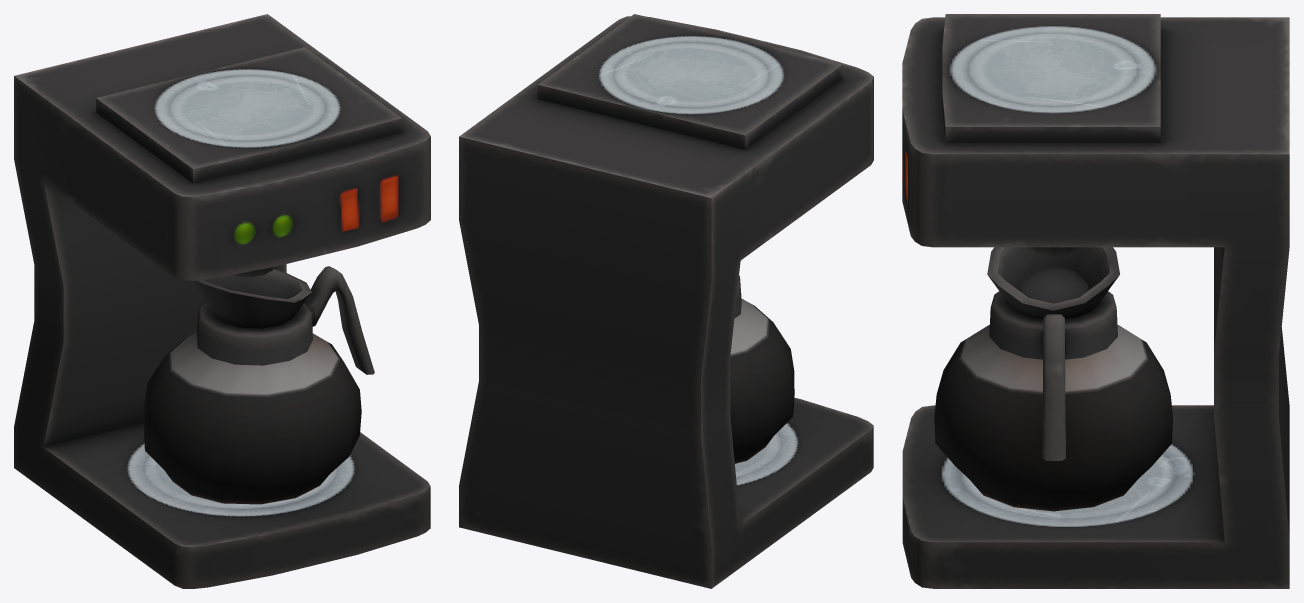
File: CafeCoffeeHeater02_1.FBX
The picture shows the model from 3 angles, left to right: view 1: azimuth 30°, elevation 25°; view 2: azimuth 150°, elevation 25°; view 3: azimuth 270°, elevation 25°; orthographic projection. The views are drawn at different scales.
Visible parts, largest first — view 1: CafeCoffeeHeater02_1; view 2: CafeCoffeeHeater02_1; view 3: CafeCoffeeHeater02_1.
Boxes of the visible parts, <box> form: CafeCoffeeHeater02_1: <box>14,14,430,588</box>; CafeCoffeeHeater02_1: <box>459,14,873,588</box>; CafeCoffeeHeater02_1: <box>902,14,1289,588</box>.
Size of what is drawn, in the model's own units: 0.3808 by 0.584 by 0.4546.
